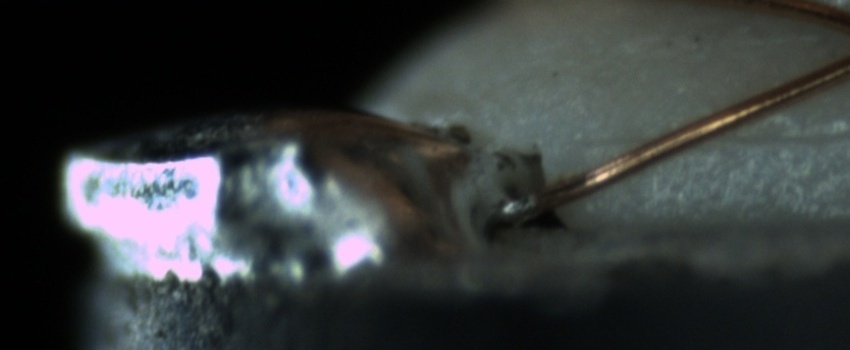DL: (605, 106, 847, 170)
TS: (493, 186, 539, 223)
